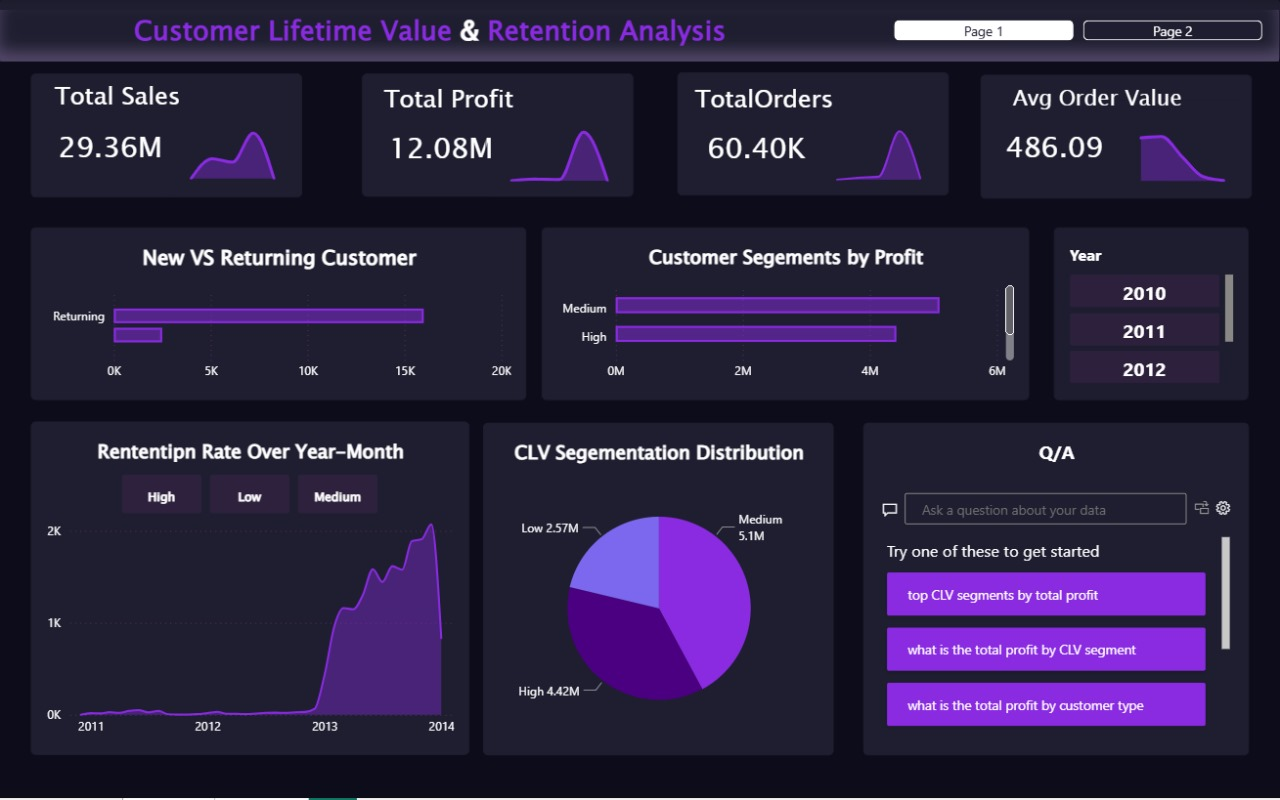

The dashboard page shown, as its layout file describes it:
{"tool":"powerbi","page":{"name":"Page 1","canvas":[1280,800],"ordinal":0},"visuals":[{"type":"shape","box":[0,0,1280.4,62.2],"z":0},{"type":"shape","box":[31.7,74.1,271.3,123.8],"z":0,"group":"g1"},{"type":"shape","box":[980.9,75.3,271.3,123.8],"z":0,"group":"g2"},{"type":"shape","box":[362.8,74.1,271.4,123.6],"z":1000},{"type":"shape","box":[678,73.7,271.4,123.6],"z":2000},{"type":"pieChart","title":"CLV Segementation Distribution","fields":{"Category":["Customer_clv_Summary.CLV Segment"],"Y":["Sum(Customer_clv_Summary.CLV_Profit)"]},"box":[484.2,424.3,350.6,332.5],"z":3000},{"type":"lineChart","title":"Rententipn Rate Over Year-Month","fields":{"Category":["Customer_clv_Summary.lAST_PURCHASE_DATE.Variation.Date Hierarchy.Year","Customer_clv_Summary.lAST_PURCHASE_DATE.Variation.Date Hierarchy.Month"],"Y":["CountNonNull(Customer_clv_Summary.CustomerKey)"]},"box":[32,423,438.3,333.9],"z":4000},{"type":"barChart","title":"New VS Returning Customer","fields":{"Category":["Customer_clv_Summary.Customer Type"],"Y":["CountNonNull(Customer_clv_Summary.CustomerKey)"]},"box":[32,228.2,495.3,172.5],"z":5000},{"type":"advancedSlicerVisual","fields":{"Values":["Customer_clv_Summary.lAST_PURCHASE_DATE.Variation.Date Hierarchy.Year"]},"box":[1054.6,228.2,194.8,172.5],"z":6000},{"type":"barChart","title":"Customer Segements by Profit","fields":{"Category":["Customer_clv_Summary.CLV Segment"],"Y":["Sum(Customer_clv_Summary.CLV_Profit)"]},"box":[542.6,228.2,487,172.5],"z":7000},{"type":"advancedSlicerVisual","fields":{"Values":["Customer_clv_Summary.CLV Segment"]},"box":[107.1,460.5,288,69.6],"z":8000},{"type":"card","title":"Total Profit","fields":{"Values":["Sum(Customer_clv_Summary.CLV_Profit)"]},"box":[362.4,103.2,157.4,93.9],"z":9000},{"type":"card","title":"Total Profit","fields":{"Values":["CountNonNull(Sales_summary (2).OrderQuantity)"]},"box":[677.6,102.8,157.4,93.9],"z":10000},{"type":"textbox","box":[0,10.6,1279.1,51.6],"z":11000},{"type":"pageNavigator","box":[879.6,6.6,399.5,50.3],"z":12000},{"type":"lineChart","fields":{"Category":["Sales_summary (2).OrderDate.Variation.Date Hierarchy.Year"],"Y":["Avg(Sales_summary (2).SalesAmount)"]},"box":[1115.8,100.4,133.6,96.6],"z":12000,"group":"g2"},{"type":"group","id":"g1","title":"Group 1","box":[31.7,74.1,271.2,123],"z":13000},{"type":"card","title":"Total Sales","fields":{"Values":["Avg(Sales_summary (2).SalesAmount)"]},"box":[981.1,99.9,147.5,96],"z":13000,"group":"g2"},{"type":"group","id":"g2","title":"Group 1","box":[980.9,75.3,271.3,123.8],"z":14000},{"type":"textbox","box":[992.2,82.4,211.5,47.3],"z":15000,"group":"g2"},{"type":"areaChart","fields":{"Category":["Customer_clv_Summary.lAST_PURCHASE_DATE.Variation.Date Hierarchy.Year","Customer_clv_Summary.lAST_PURCHASE_DATE.Variation.Date Hierarchy.Month"],"Y":["Sum(Customer_clv_Summary.CLV_Profit)"]},"box":[486.2,92.6,146.8,104.9],"z":15000},{"type":"areaChart","fields":{"Y":["CountNonNull(Sales_summary (2).OrderQuantity)"],"Category":["Sales_summary (2).OrderDate.Variation.Date Hierarchy.Year","Sales_summary (2).OrderDate.Variation.Date Hierarchy.Month"]},"box":[801.4,92.3,146.8,104.9],"z":16000},{"type":"lineChart","fields":{"Y":["Sum(Sales_summary (2).SalesAmount)"],"Category":["Sales_summary (2).OrderDate.Variation.Date Hierarchy.Year"]},"box":[166.7,99.2,133.6,96.6],"z":17000},{"type":"lineChart","fields":{"Category":["Sales_summary (2).OrderDate.Variation.Date Hierarchy.Year"],"Y":["CountNonNull(Sales_summary (2).OrderQuantity)"]},"box":[812.5,98.8,133.6,96],"z":18000},{"type":"qnaVisual","title":"Q/A","box":[864,424.3,385.4,332.5],"z":19000},{"type":"textbox","box":[378.3,82,141.5,41],"z":20000},{"type":"card","title":"Total Sales","fields":{"Values":["Sum(Customer_clv_Summary.TotalSpent)"]},"box":[31.7,101.9,158.7,93.9],"z":21000},{"type":"textbox","box":[693.4,81.7,141.5,41],"z":22000},{"type":"textbox","box":[47.6,79.4,141.5,41],"z":23000}]}

Visuals, with their boxes in screenshot pixels (x1, y1, x2, y2), scaled from the page's 1280x800 canvas onto the 1280x800 screenshot:
shape: <box>0,0,1279,62</box>
shape: <box>32,74,303,198</box>
shape: <box>981,75,1252,199</box>
shape: <box>363,74,634,198</box>
shape: <box>678,74,949,197</box>
"CLV Segementation Distribution" pieChart: <box>484,424,835,757</box>
"Rententipn Rate Over Year-Month" lineChart: <box>32,423,470,757</box>
"New VS Returning Customer" barChart: <box>32,228,527,401</box>
advancedSlicerVisual - Customer_clv_Summary.lAST_PURCHASE_DATE.Variation.Date Hierarchy.Year: <box>1055,228,1249,401</box>
"Customer Segements by Profit" barChart: <box>543,228,1030,401</box>
advancedSlicerVisual - Customer_clv_Summary.CLV Segment: <box>107,460,395,530</box>
"Total Profit" card: <box>362,103,520,197</box>
"Total Profit" card: <box>678,103,835,197</box>
textbox: <box>0,11,1279,62</box>
pageNavigator: <box>880,7,1279,57</box>
lineChart - Sales_summary (2).OrderDate.Variation.Date Hierarchy.Year x Avg(Sales_summary (2).SalesAmount): <box>1116,100,1249,197</box>
"Group 1" group: <box>32,74,303,197</box>
"Total Sales" card: <box>981,100,1129,196</box>
"Group 1" group: <box>981,75,1252,199</box>
textbox: <box>992,82,1204,130</box>
areaChart - Customer_clv_Summary.lAST_PURCHASE_DATE.Variation.Date Hierarchy.Year x Customer_clv_Summary.lAST_PURCHASE_DATE.Variation.Date Hierarchy.Month: <box>486,93,633,198</box>
areaChart - CountNonNull(Sales_summary (2).OrderQuantity) x Sales_summary (2).OrderDate.Variation.Date Hierarchy.Year: <box>801,92,948,197</box>
lineChart - Sum(Sales_summary (2).SalesAmount) x Sales_summary (2).OrderDate.Variation.Date Hierarchy.Year: <box>167,99,300,196</box>
lineChart - Sales_summary (2).OrderDate.Variation.Date Hierarchy.Year x CountNonNull(Sales_summary (2).OrderQuantity): <box>812,99,946,195</box>
"Q/A" qnaVisual: <box>864,424,1249,757</box>
textbox: <box>378,82,520,123</box>
"Total Sales" card: <box>32,102,190,196</box>
textbox: <box>693,82,835,123</box>
textbox: <box>48,79,189,120</box>
